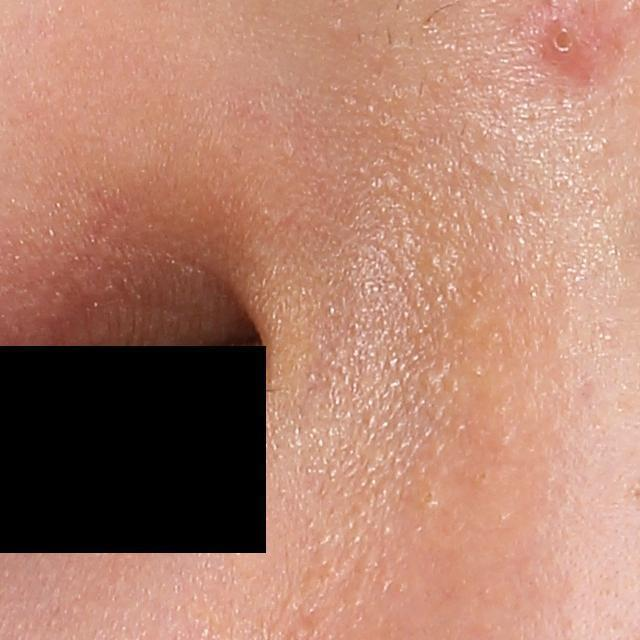comedo: (418, 487, 439, 507), (473, 468, 492, 485)
papule: (538, 10, 596, 75)
